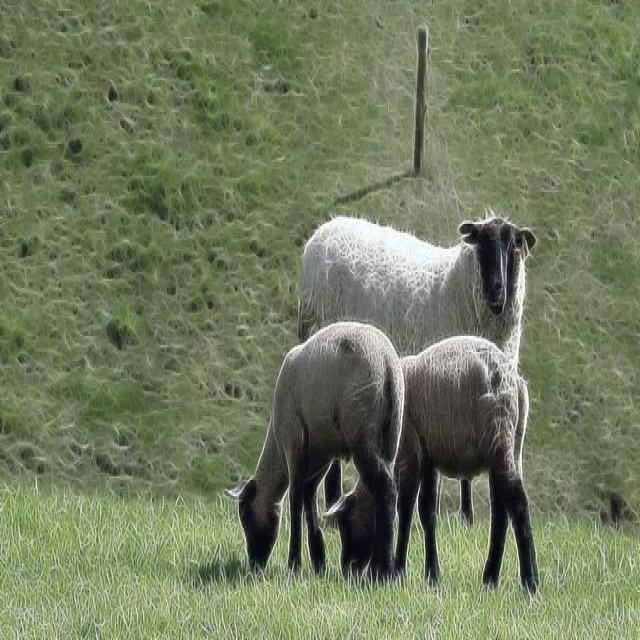Sheep: (326, 336, 538, 588), (219, 322, 404, 583), (297, 215, 537, 366)
